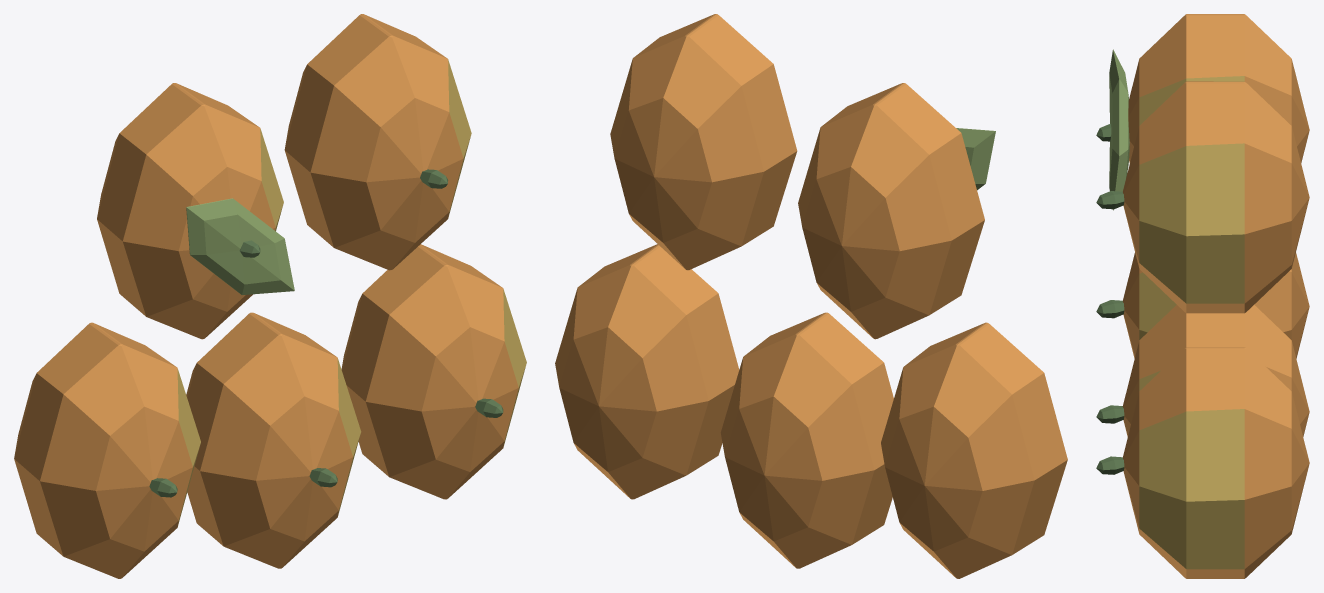
The model's file is kumquats.glb.
3 renders of one model, left to right at view 1: azimuth 30°, elevation 25°; view 2: azimuth 150°, elevation 25°; view 3: azimuth 270°, elevation 25°, orthographic.
Parts seen in each view (by area): view 1: kumquats; view 2: kumquats; view 3: kumquats.
Part boxes in pixels (left/top/right/bottom): kumquats: left=14, top=14, right=526, bottom=578; kumquats: left=555, top=14, right=1067, bottom=578; kumquats: left=1096, top=14, right=1309, bottom=578.
Bounding box in the file's own units: 0.0882 × 0.0876 × 0.034.
